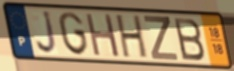B: (172, 16, 207, 63)
G: (57, 10, 91, 57)
H: (84, 12, 122, 59), (115, 14, 149, 61)
J: (35, 9, 59, 56)
Z: (142, 14, 181, 62)
